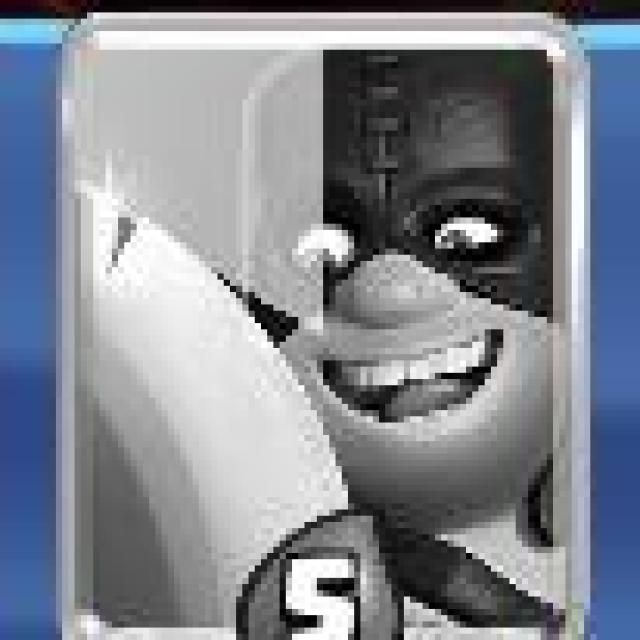Executioner: (54, 10, 589, 640)
